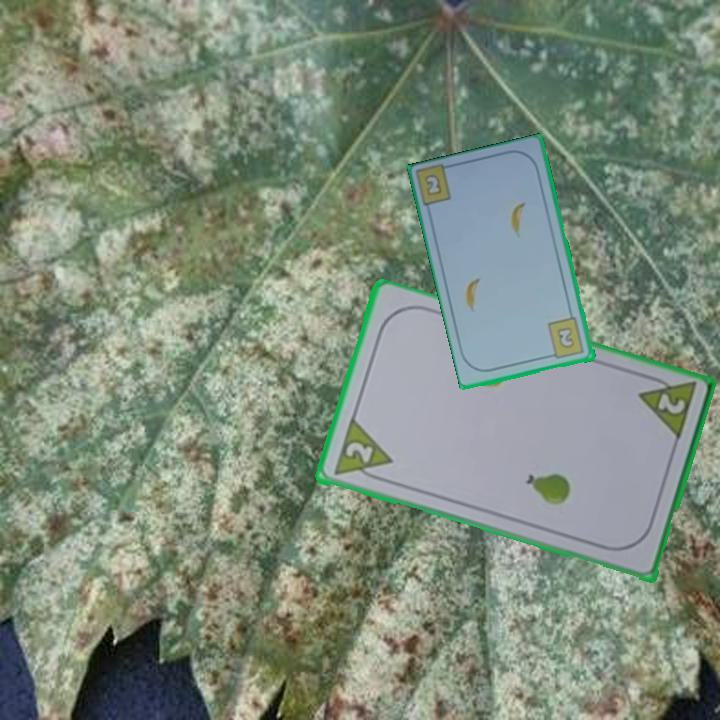2b: (544, 314, 587, 362), (421, 170, 445, 199)
2p: (634, 370, 699, 445), (329, 416, 395, 486)
